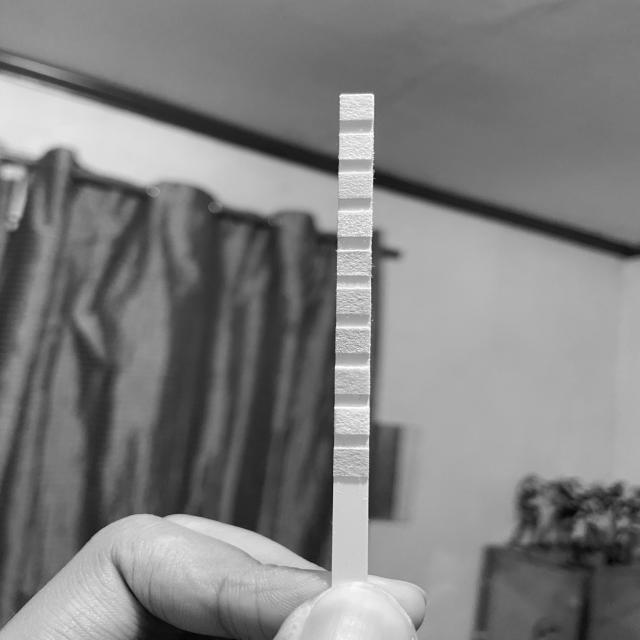Bilirubin: (337, 409, 368, 434)
Blood: (338, 291, 369, 313)
Glucose: (335, 450, 367, 474)
Ketone: (336, 369, 368, 392)
Leukocytes: (341, 95, 372, 119)
Nitrite: (341, 136, 372, 158)
Protein: (339, 212, 371, 235)
SpGravity: (337, 329, 368, 351)
Urobilinogen: (339, 174, 372, 197)
background: (0, 0, 640, 640)
pH: (338, 252, 369, 274)
strip: (332, 95, 375, 580)
